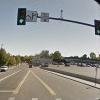Car: (1, 61, 9, 74)
